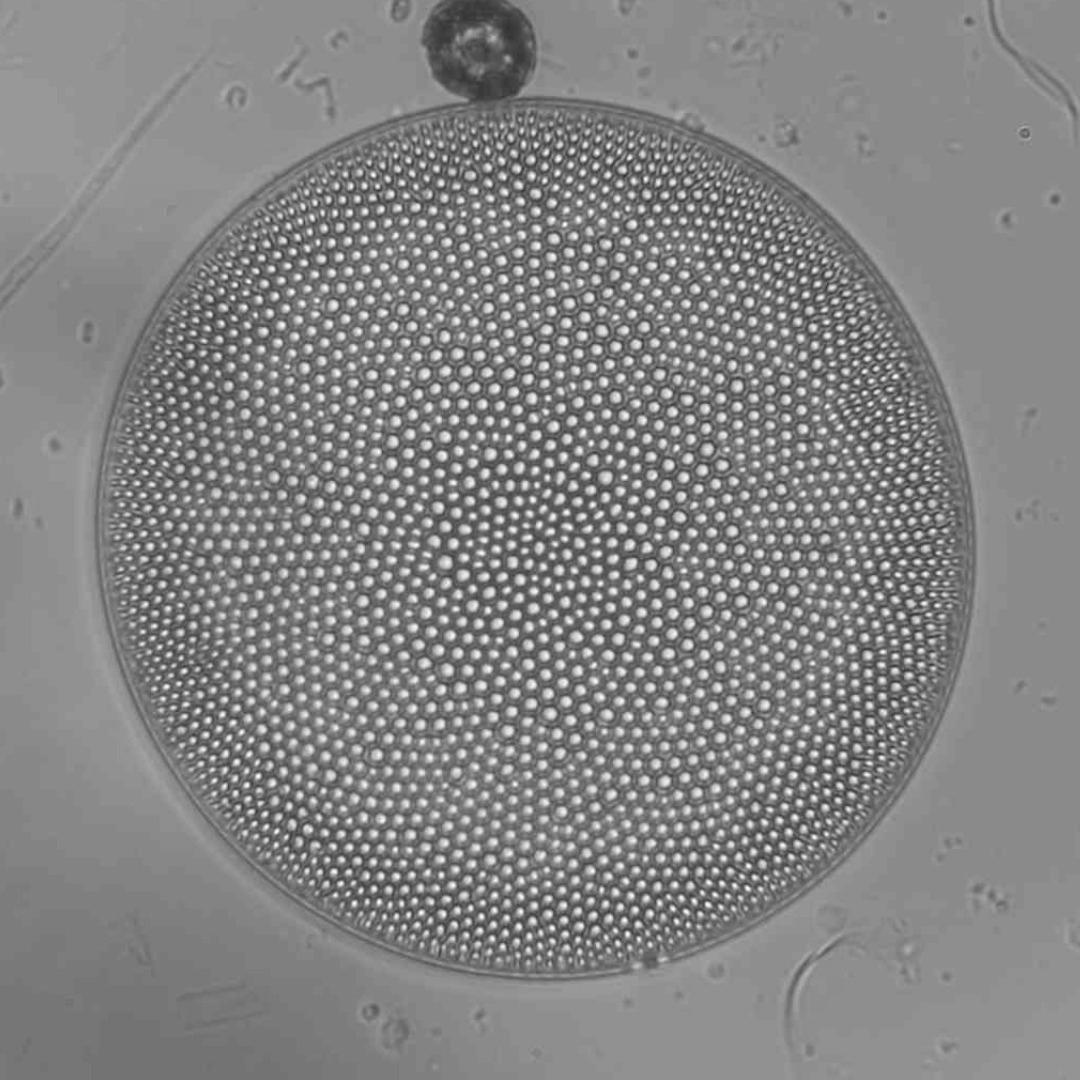coscinodiscus_oculus_iridis: (92, 96, 979, 983)
